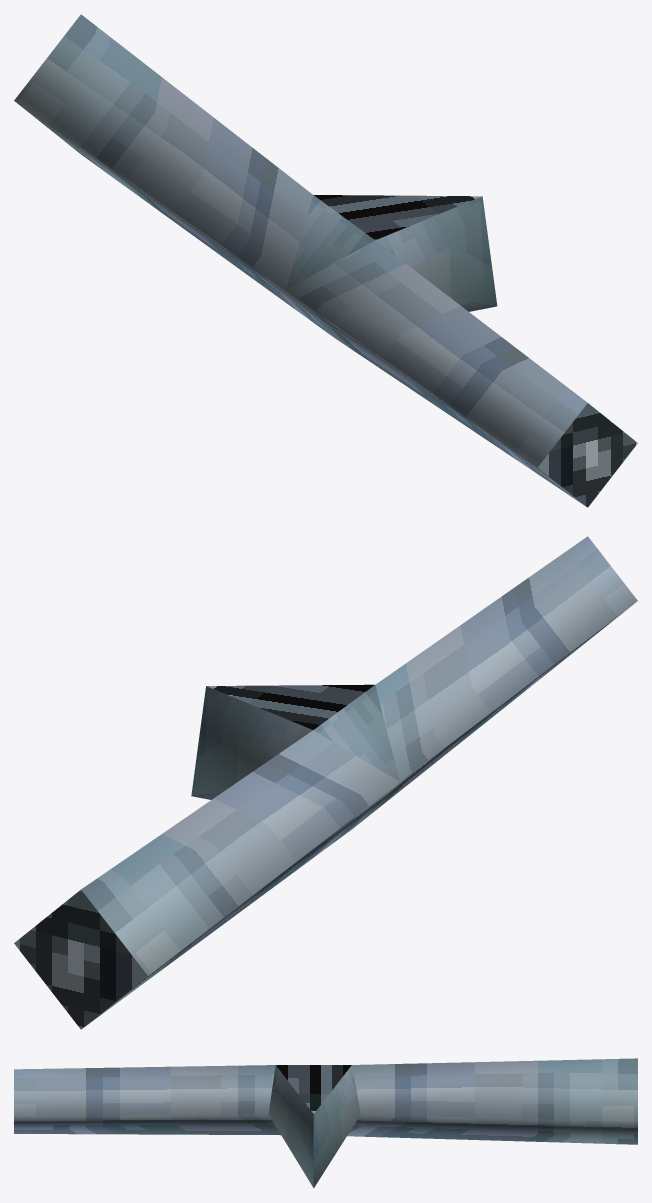
File: wp_scope_de10_l2.fbx
3 views of the same model, one above another, from view 1: azimuth 30°, elevation 25°; view 2: azimuth 150°, elevation 25°; view 3: azimuth 270°, elevation 25° (orthographic). The views are drawn at different scales.
Visible parts, largest first — view 1: mesh_node; view 2: mesh_node; view 3: mesh_node.
Part boxes in pixels (x1,y1,x2,y2): mesh_node: [14, 14, 637, 507]; mesh_node: [14, 536, 637, 1029]; mesh_node: [14, 1058, 637, 1188].
Size of the model in its own units: 0.0489 by 0.0298 by 0.1952.
Materials: 1 (1 with a texture image).
